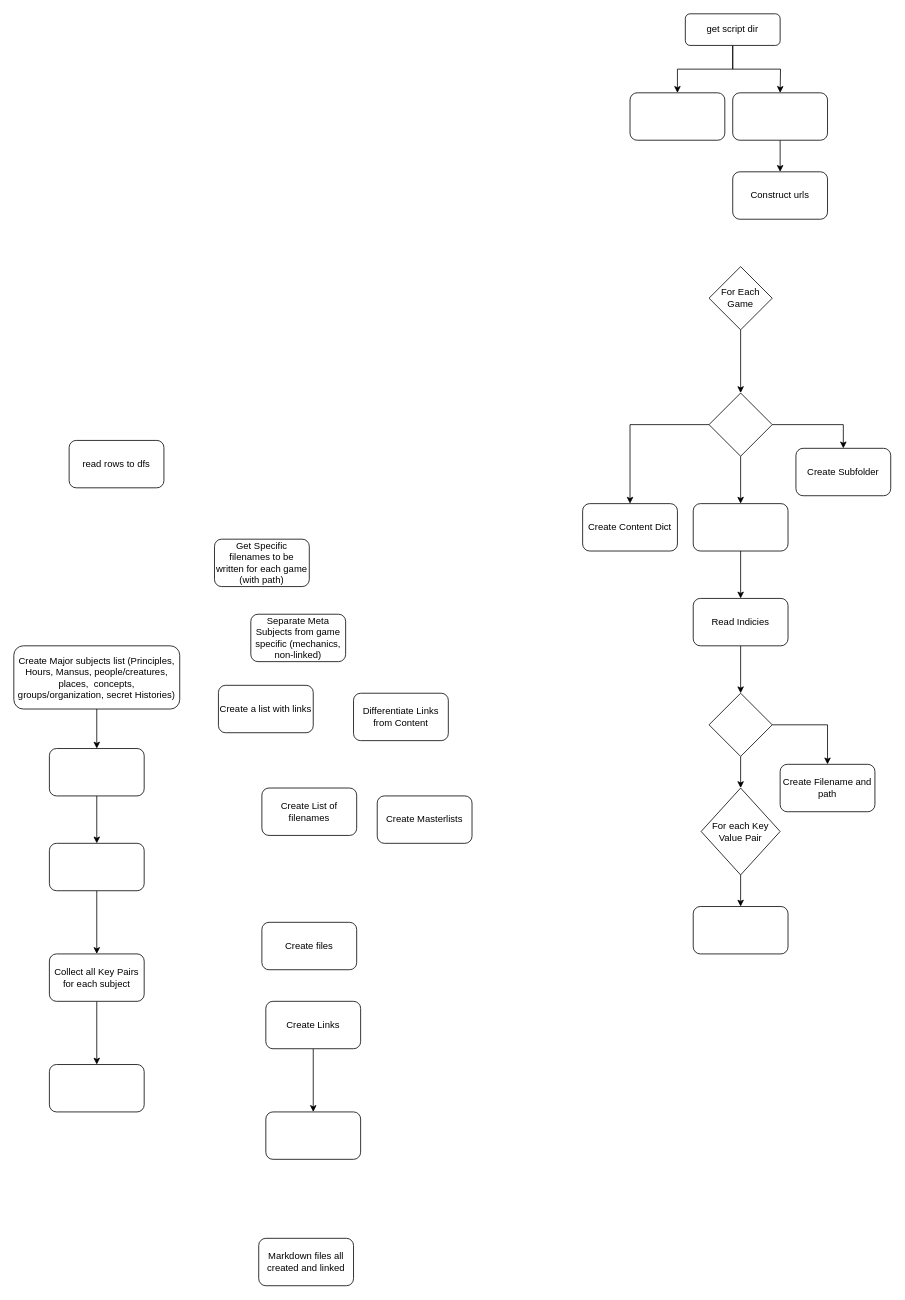
Some shapes in this 905 by 1300 pixel diagram are drawn without their labels. The centre of each missing label's shape, as x and y in pixels:
"Consrtuct file structures" belongs at point 96,867.
"construct config file path" belongs at point 677,116.
"construct sheets file path" belongs at point 780,116.
"Create Reverse Links" belongs at point 313,1135.
"For Each Index" belongs at point 740,724.
"For Each Sheet" belongs at point 740,424.
"Label content by source (CS, BoH)" belongs at point 96,1088.
"Logic for populating Major Subjects" belongs at point 96,772.
"Populate Content Dict" belongs at point 740,930.
"Read Sheet to df" belongs at point 740,527.
